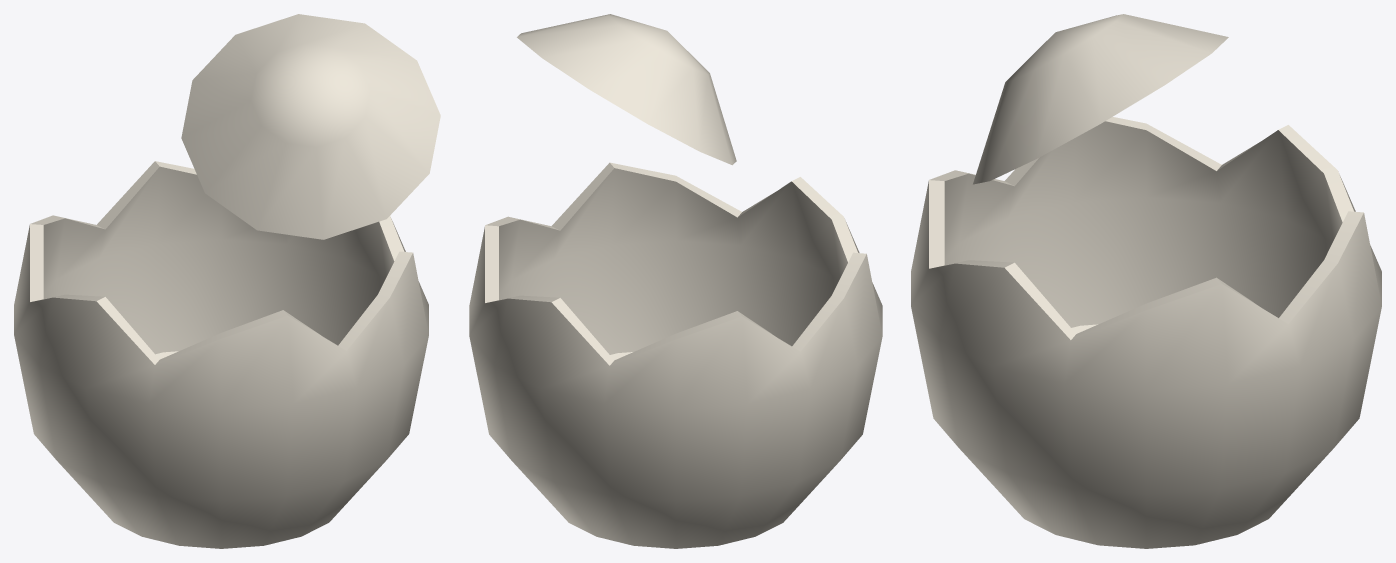
The model's file is CrackedEgg.fbx.
3 views of the same model, side by side, from view 1: azimuth 30°, elevation 25°; view 2: azimuth 150°, elevation 25°; view 3: azimuth 270°, elevation 25° (orthographic). The views are drawn at different scales.
Visible parts, largest first — view 1: CrackedEgg; view 2: CrackedEgg; view 3: CrackedEgg.
Boxes of the visible parts, x1,y1,x2,y2 form: CrackedEgg: (14,14,440,548); CrackedEgg: (469,14,882,548); CrackedEgg: (911,14,1381,548).
Bounding box in the file's own units: 2.1 × 2.53 × 2.07.
1 material, 1 textured.
